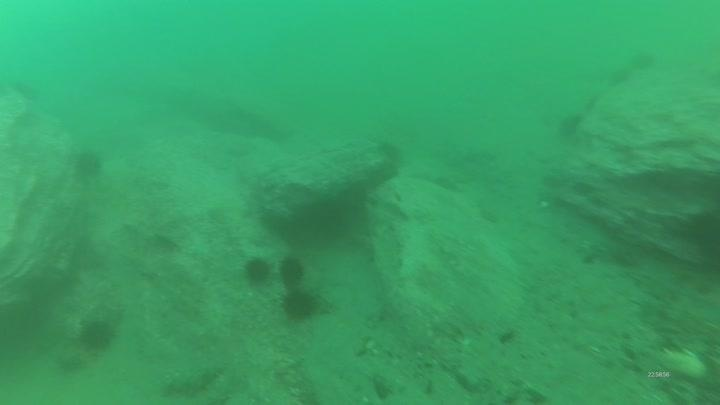echinus: (683, 206, 720, 271), (76, 315, 118, 354), (279, 287, 321, 323), (70, 146, 106, 182), (240, 254, 274, 287), (277, 253, 308, 288), (555, 110, 585, 140), (628, 47, 658, 73)
holothurian: (160, 361, 226, 400)
